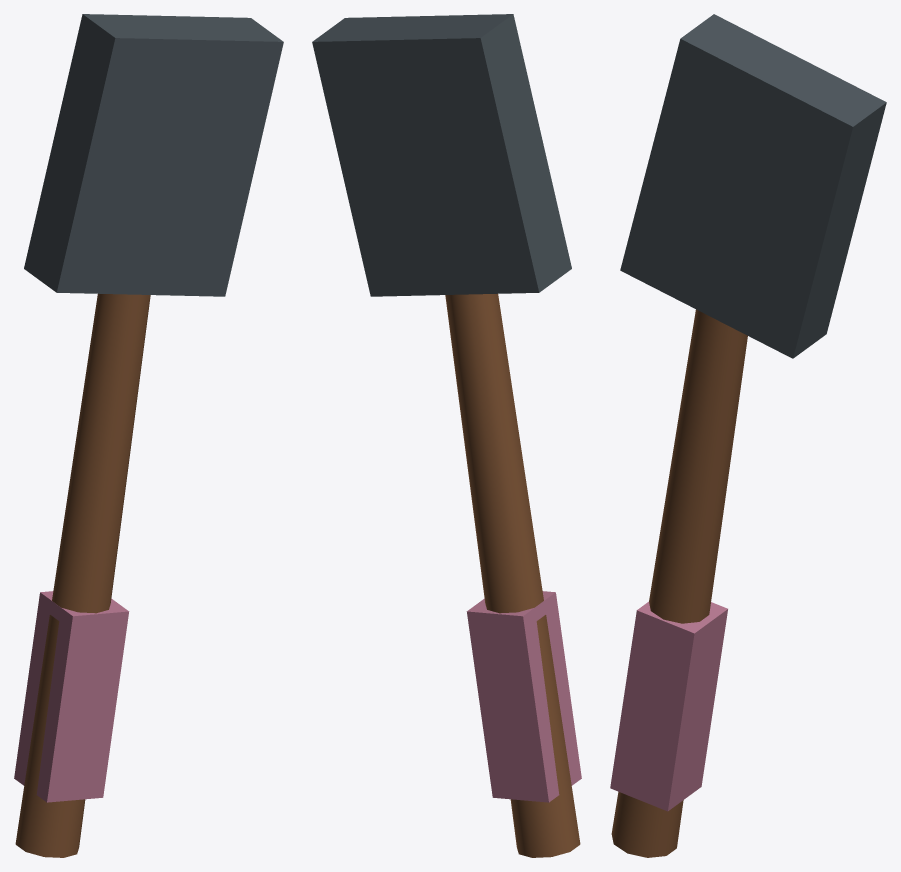
Rendered from tool_axe.glb.
The picture shows the model from 3 angles, left to right: view 1: azimuth 30°, elevation 25°; view 2: azimuth 150°, elevation 25°; view 3: azimuth 330°, elevation 25°; orthographic projection. The views are drawn at different scales.
Parts seen in each view (by area): view 1: head, handle, grip_wrap; view 2: head, handle, grip_wrap; view 3: head, handle, grip_wrap.
Part boxes in pixels (x1=…): head: x1=24, y1=14, x2=283, y2=296; handle: x1=15, y1=293, x2=150, y2=857; grip_wrap: x1=14, y1=591, x2=129, y2=802; head: x1=312, y1=14, x2=571, y2=296; handle: x1=445, y1=293, x2=580, y2=857; grip_wrap: x1=466, y1=591, x2=581, y2=802; head: x1=620, y1=14, x2=886, y2=358; handle: x1=611, y1=309, x2=747, y2=857; grip_wrap: x1=610, y1=601, x2=727, y2=811.
Size of what is drawn, in the model's own units: 0.7808 by 2.45 by 0.18.
